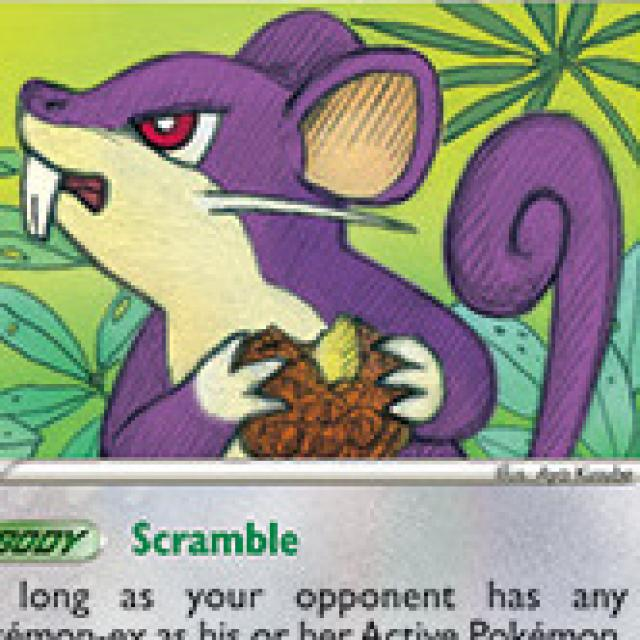Rattata: (31, 29, 480, 458)
